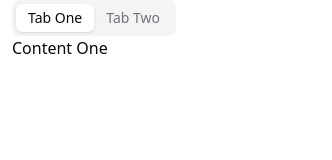
Scenario: Tabs component › shows correct content when triggers are clicked
Check: the text "Content One" is shown, box [12, 37, 108, 59]
Check: the text "Content Two" is not shown
Note: Switch to second tab
Click the button "Tab Two" at {"x": 133, "y": 18}, box [94, 4, 172, 32]
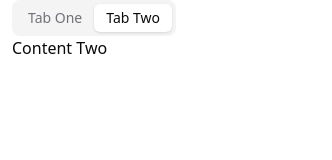
Check: the text "Content Two" is shown, box [12, 37, 107, 59]
Check: the text "Content One" is gone
Note: Switch back
Click the button "Tab One" at {"x": 55, "y": 18}, box [16, 4, 94, 32]
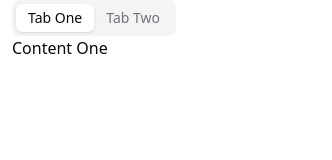
Check: the text "Content One" is shown, box [12, 37, 108, 59]
Check: the text "Content Two" is gone
